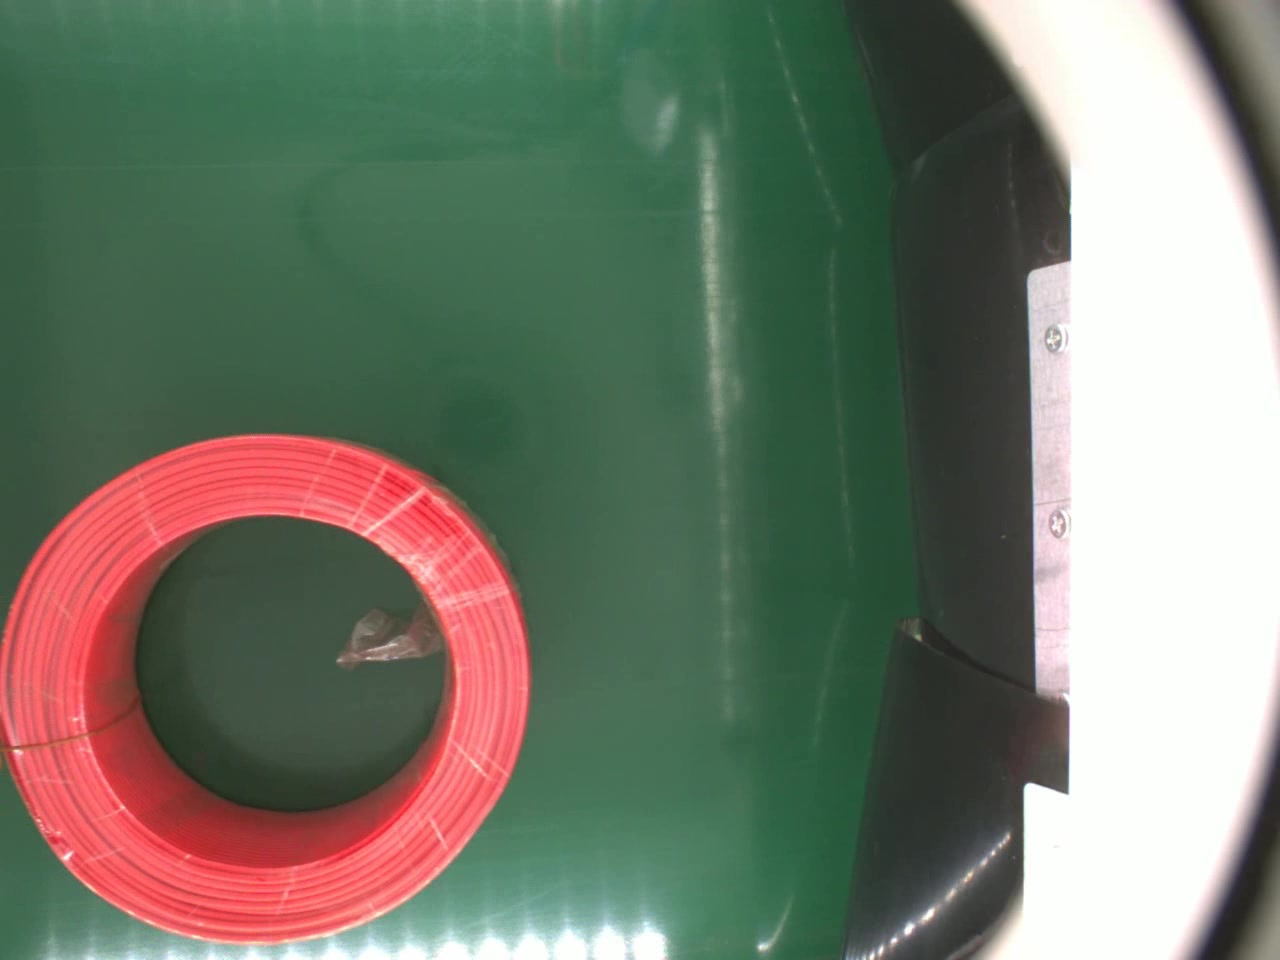red: (0, 432, 529, 949)
